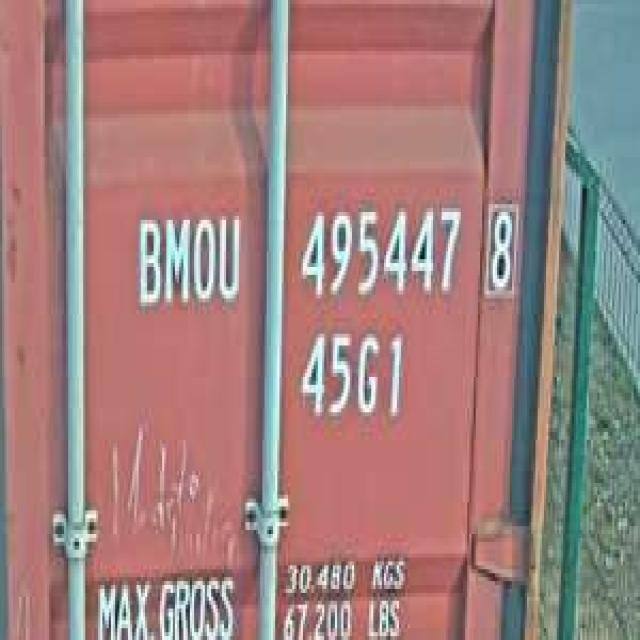dv: (480, 192, 521, 302)
owner: (132, 200, 243, 318)
serial: (292, 192, 465, 306)
size: (294, 322, 408, 432)
